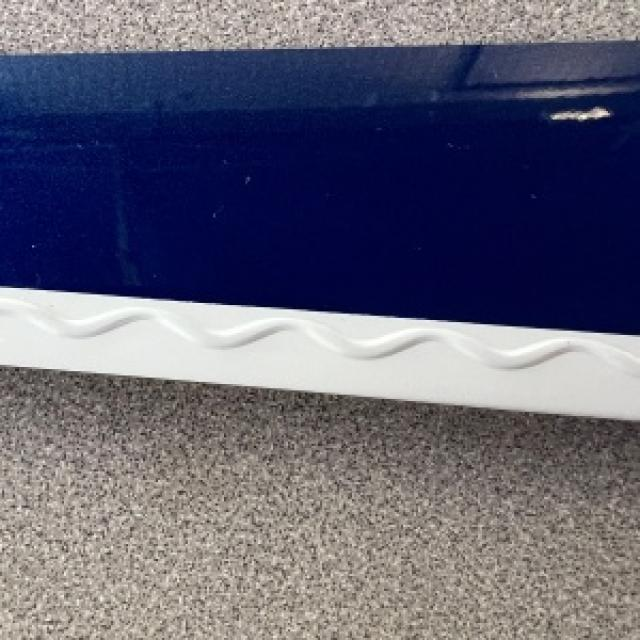healthy: (0, 43, 638, 416)
